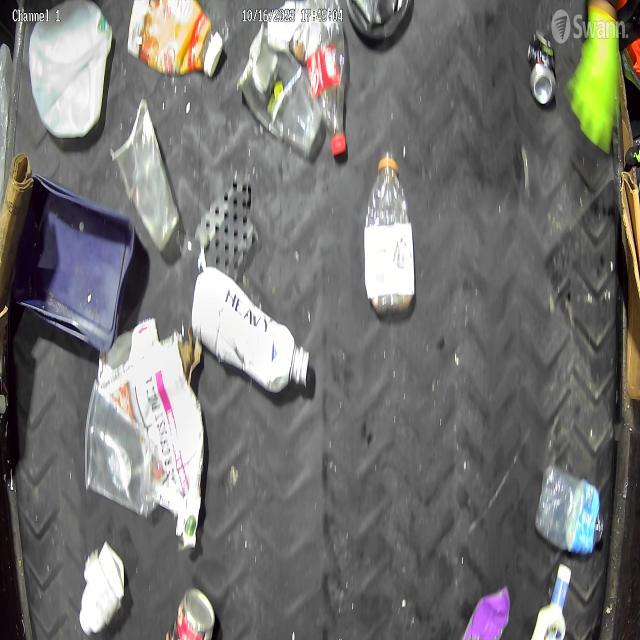can: (524, 32, 558, 102)
milk_jug: (28, 2, 114, 135)
plastic_bottle: (298, 1, 356, 164), (364, 150, 414, 318), (532, 466, 608, 558)
